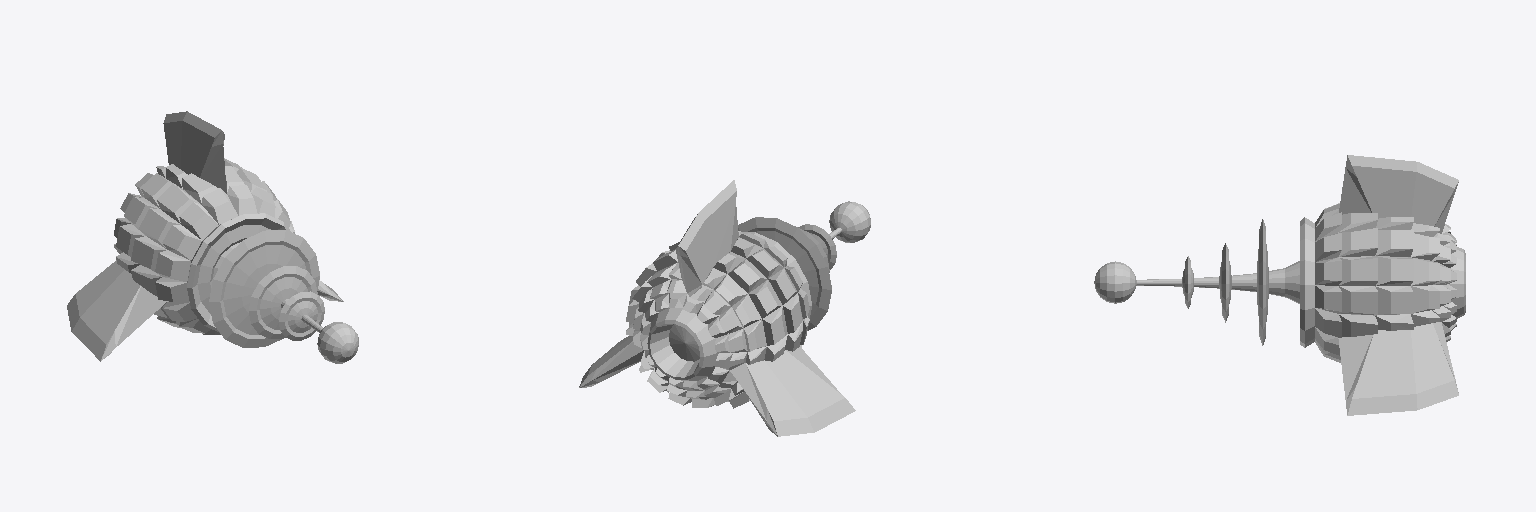
Rendered from Frost_Tower (1).obj.
3 renders of one model, left to right at view 1: azimuth 30°, elevation 25°; view 2: azimuth 150°, elevation 25°; view 3: azimuth 270°, elevation 25°, orthographic.
Parts seen in each view (by area): view 1: FrostLaser.001_Cylinder.001; view 2: FrostLaser.001_Cylinder.001; view 3: FrostLaser.001_Cylinder.001.
Part boxes in pixels (bbox=[...]): FrostLaser.001_Cylinder.001: bbox=[67, 111, 358, 363]; FrostLaser.001_Cylinder.001: bbox=[579, 180, 870, 436]; FrostLaser.001_Cylinder.001: bbox=[1094, 155, 1465, 415].
Bounding box in the file's own units: 2.26 × 1.8 × 2.99.